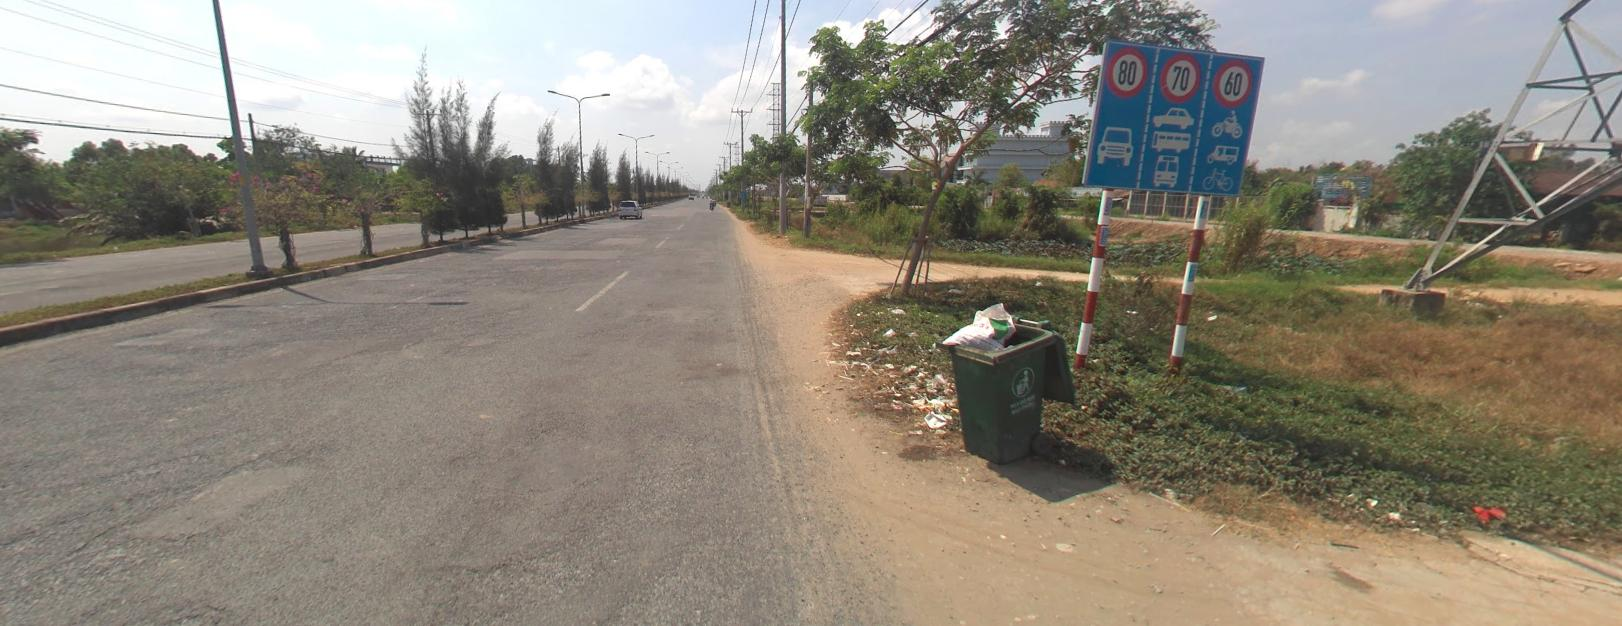Gioi han toc do: (1106, 44, 1147, 96), (1158, 50, 1200, 98), (1214, 53, 1253, 105)
